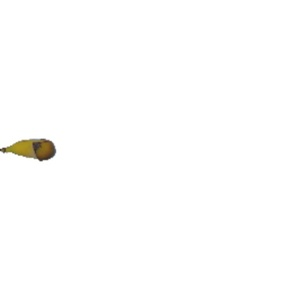banana: (2, 133, 59, 168)
